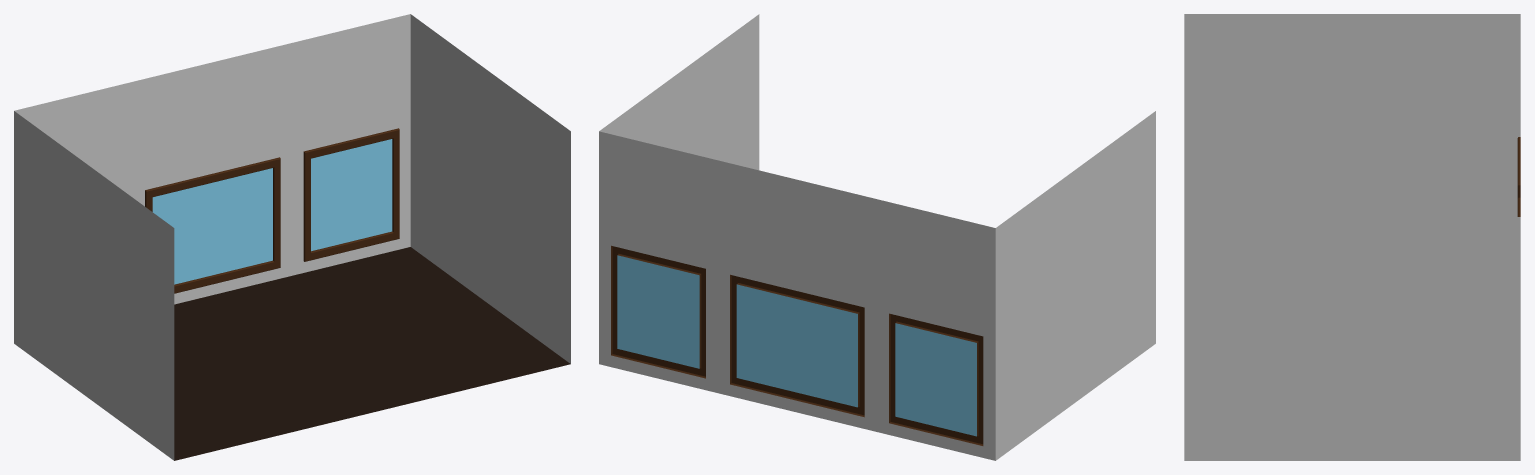
File: HQ_Room.fbx
The picture shows the model from 3 angles, left to right: view 1: azimuth 30°, elevation 25°; view 2: azimuth 150°, elevation 25°; view 3: azimuth 270°, elevation 25°; orthographic projection. The views are drawn at different scales.
Visible parts, largest first — view 1: HQ_Room; view 2: HQ_Room; view 3: HQ_Room.
Part boxes in pixels (<box>): HQ_Room: <box>14,14,570,460</box>; HQ_Room: <box>599,14,1155,460</box>; HQ_Room: <box>1184,14,1520,460</box>.
Size of the model in its own units: 37.5 by 21.04 by 26.25.
